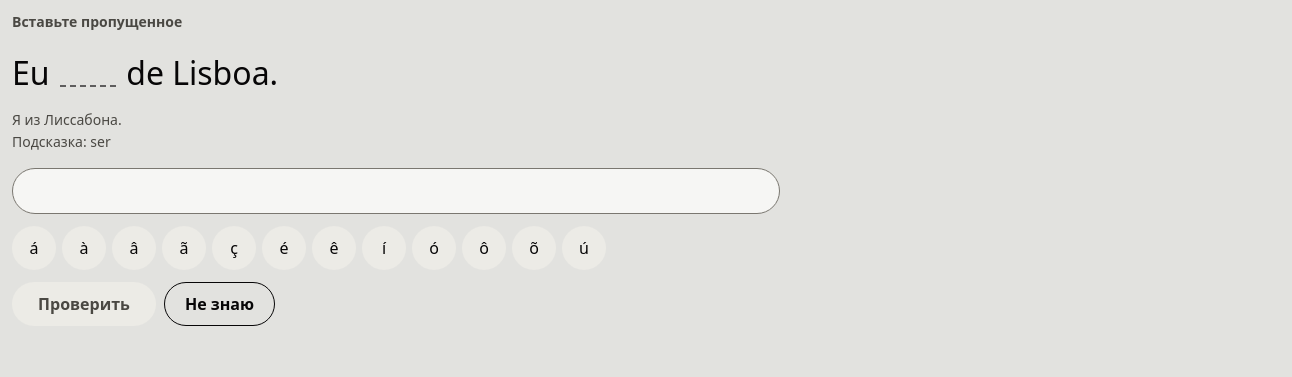
Scenario: ReviewExercise › «Не знаю» → skipped record
Click the button "Не знаю" at [220, 304], box [164,282,275,326]
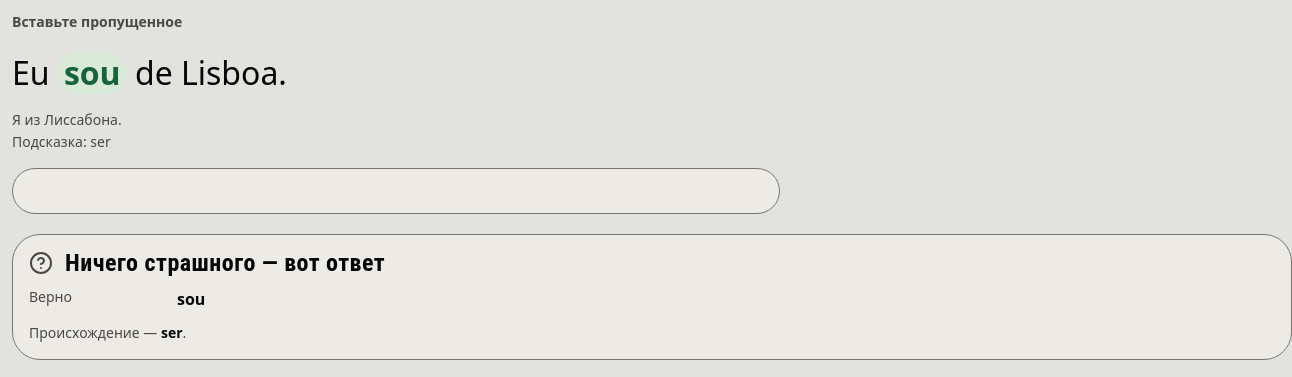
Result: the text "Ничего страшного — вот ответ" is shown at [29,249,385,277]
